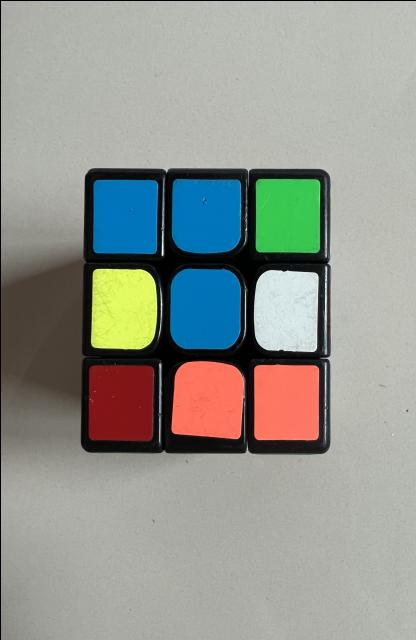Blue: (169, 268, 239, 349), (170, 178, 240, 252), (92, 179, 157, 252)
Green: (255, 178, 320, 252)
Orange: (170, 360, 243, 439), (252, 364, 318, 440)
Red: (88, 364, 153, 440)
White: (252, 269, 317, 351)
Yellow: (90, 268, 156, 349)
